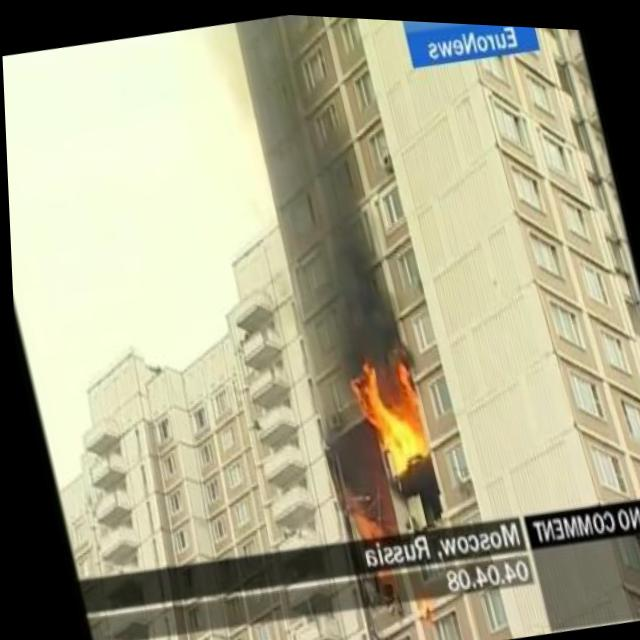fire: (342, 341, 430, 479), (337, 488, 386, 538)
